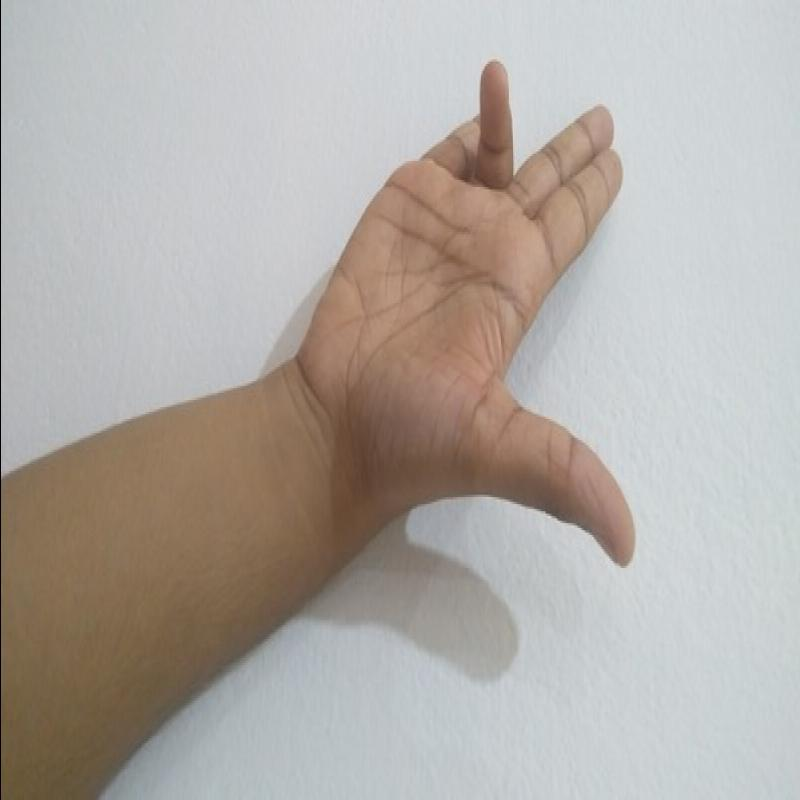Pathaaka: (298, 34, 700, 583)
